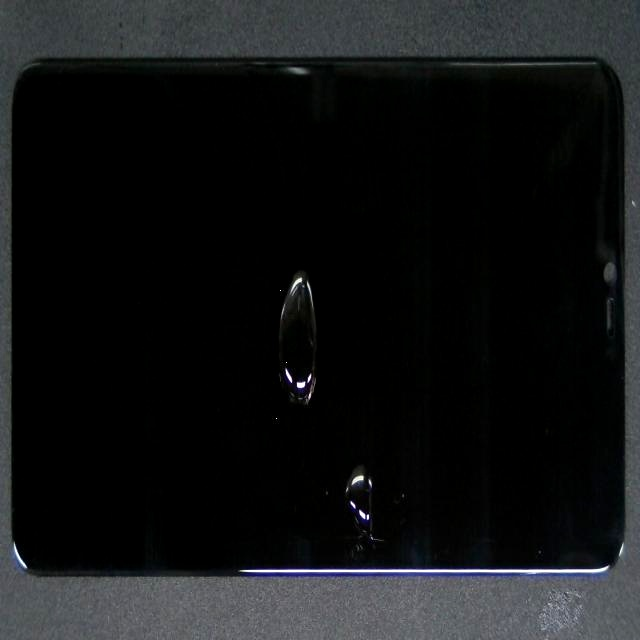oil: (160, 209, 524, 640), (133, 116, 414, 515)
